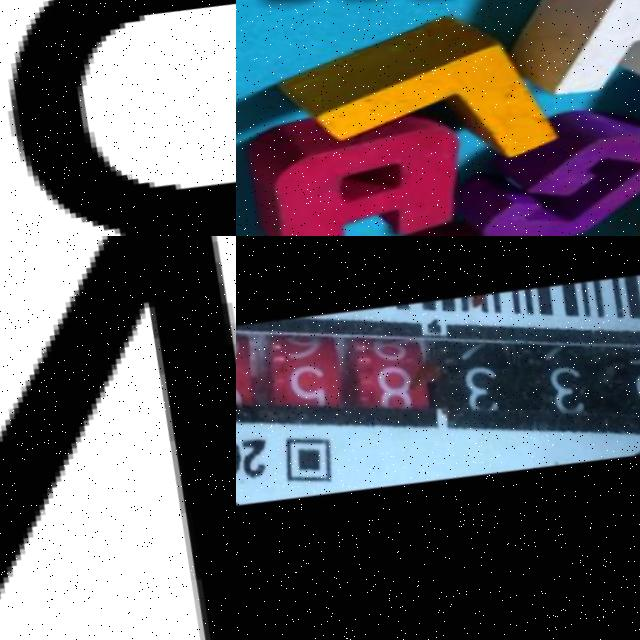3: (464, 353, 516, 416), (551, 355, 598, 417)
5: (288, 356, 342, 419)
8: (376, 357, 426, 411)
9: (236, 357, 257, 419)
G: (441, 75, 640, 236)
L: (269, 0, 600, 200)
O: (364, 204, 579, 236)
V: (0, 236, 236, 640)
